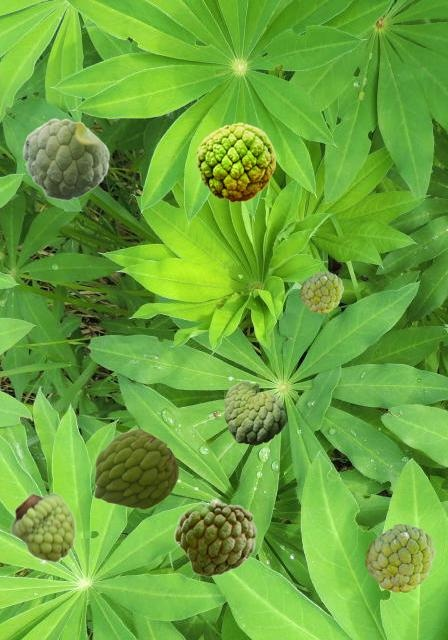atis: (22, 118, 109, 199), (94, 429, 177, 508), (173, 498, 256, 576), (196, 122, 274, 201), (365, 524, 434, 591), (10, 492, 75, 562), (224, 381, 284, 444), (300, 271, 342, 312)
